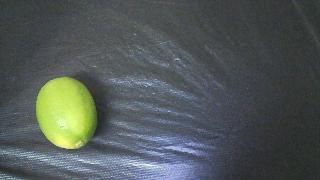LOCAL: (36, 77, 97, 149)
